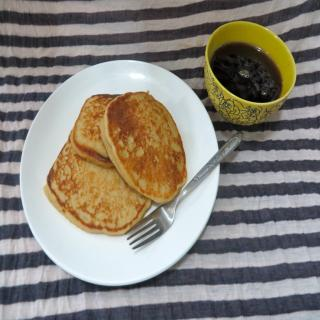Pancake: (41, 130, 150, 236), (99, 90, 186, 202), (70, 96, 126, 170)
